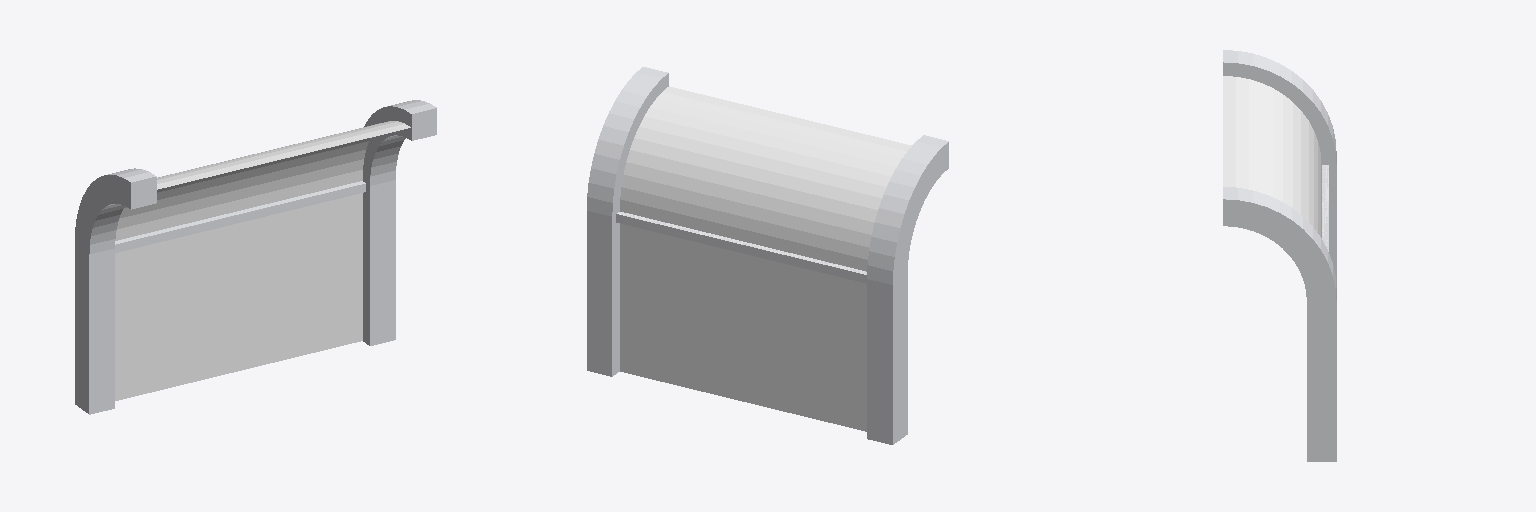
The model's file is fenceCurved.obj.
3 views of the same model, side by side, from view 1: azimuth 30°, elevation 25°; view 2: azimuth 150°, elevation 25°; view 3: azimuth 270°, elevation 25° (orthographic).
Parts seen in each view (by area): view 1: fenceCurved; view 2: fenceCurved; view 3: fenceCurved.
Part boxes in pixels (bbox=[...]): fenceCurved: bbox=[75, 100, 436, 414]; fenceCurved: bbox=[587, 67, 948, 444]; fenceCurved: bbox=[1223, 50, 1336, 461].
Bounding box in the file's own units: 10 × 8.2 × 3.2.